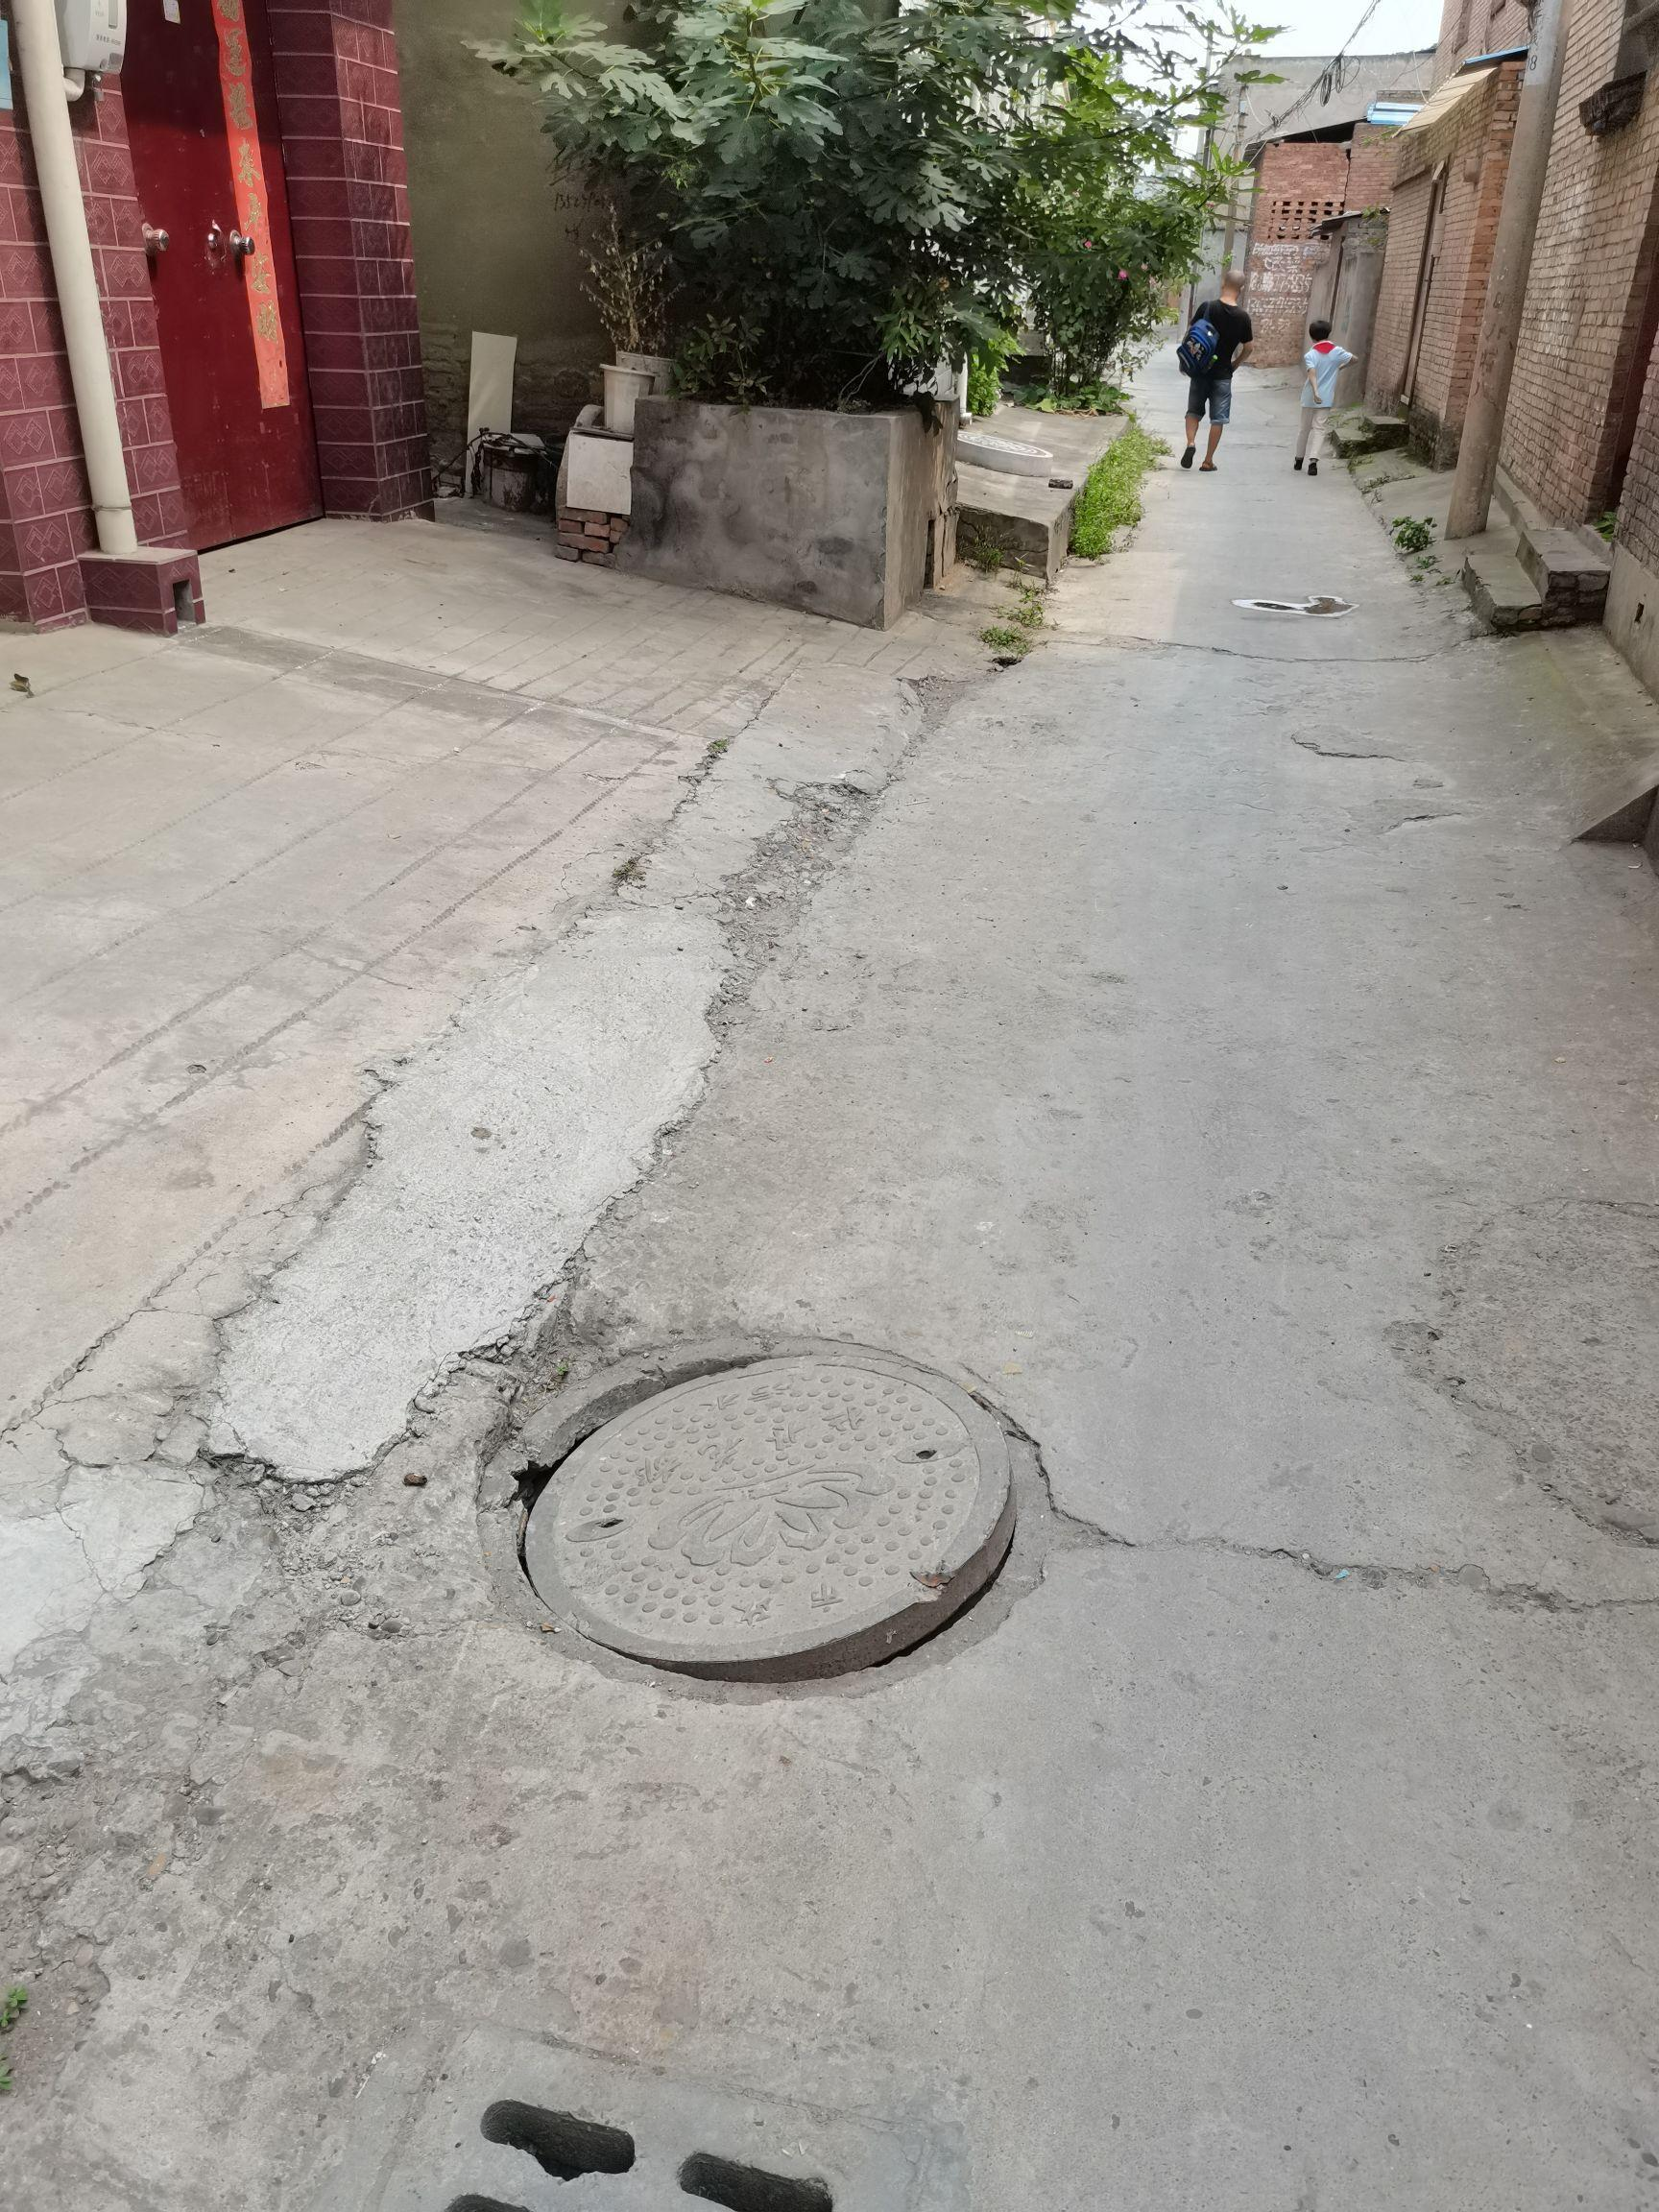wellcover: (390, 1245, 1117, 1761)
